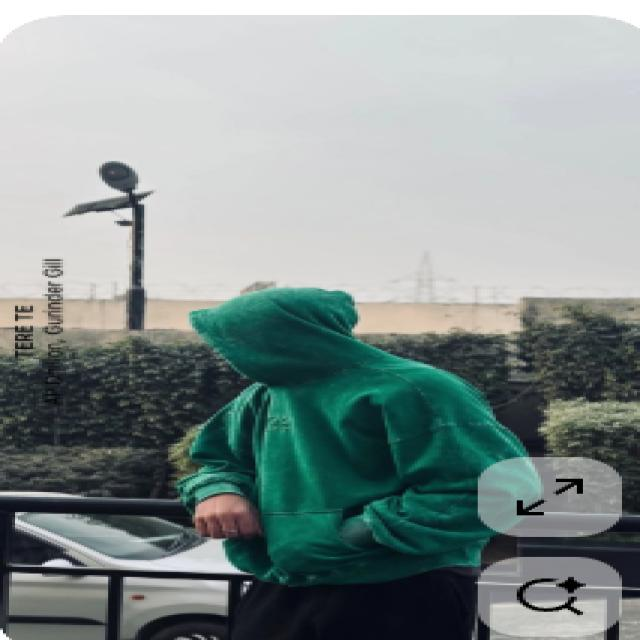4_capucha: (190, 284, 362, 391)
